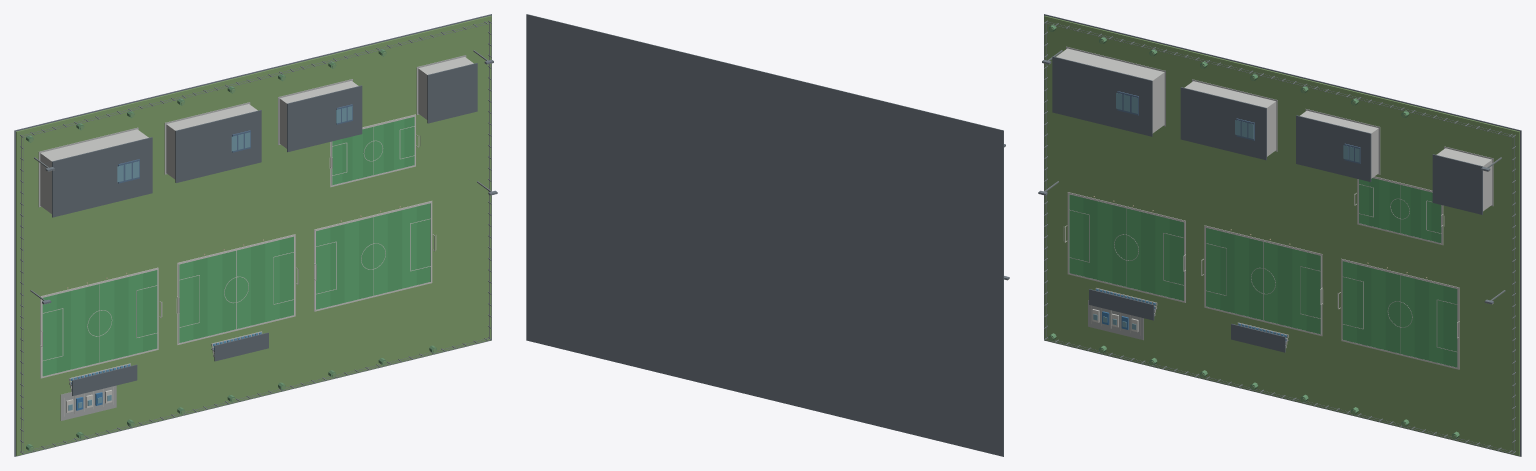
File: youth_academy_level_4.glb
The picture shows the model from 3 angles, left to right: view 1: azimuth 30°, elevation 25°; view 2: azimuth 150°, elevation 25°; view 3: azimuth 330°, elevation 25°; orthographic projection.
Visible parts, largest first — view 1: grass, roof, pitch, stripe, white, wall, fence, trim, concrete, glass, path, tree (+1 smaller); view 2: trim; view 3: grass, roof, stripe, pitch, white, wall, fence, trim, concrete, glass, path, tree.
Part boxes in pixels (<box>): grass: <box>16,15,491,455</box>; roof: <box>52,63,477,395</box>; pitch: <box>56,117,430,372</box>; stripe: <box>42,119,416,376</box>; white: <box>40,114,436,416</box>; wall: <box>40,57,473,213</box>; fence: <box>20,20,491,454</box>; trim: <box>14,14,497,456</box>; concrete: <box>38,55,466,391</box>; glass: <box>68,106,352,410</box>; path: <box>60,385,116,420</box>; tree: <box>26,49,436,451</box>; trim: <box>526,14,1009,456</box>; grass: <box>1044,15,1519,455</box>; roof: <box>1052,56,1482,352</box>; stripe: <box>1069,179,1443,363</box>; pitch: <box>1083,178,1457,367</box>; white: <box>1063,176,1459,369</box>; wall: <box>1056,48,1492,211</box>; fence: <box>1044,20,1515,454</box>; trim: <box>1038,14,1521,456</box>; concrete: <box>1066,46,1493,347</box>; glass: <box>1093,93,1359,329</box>; path: <box>1088,300,1143,340</box>; tree: <box>1048,24,1459,439</box>.
Bounding box in the file's own units: 133 × 86.6 × 8.54.
